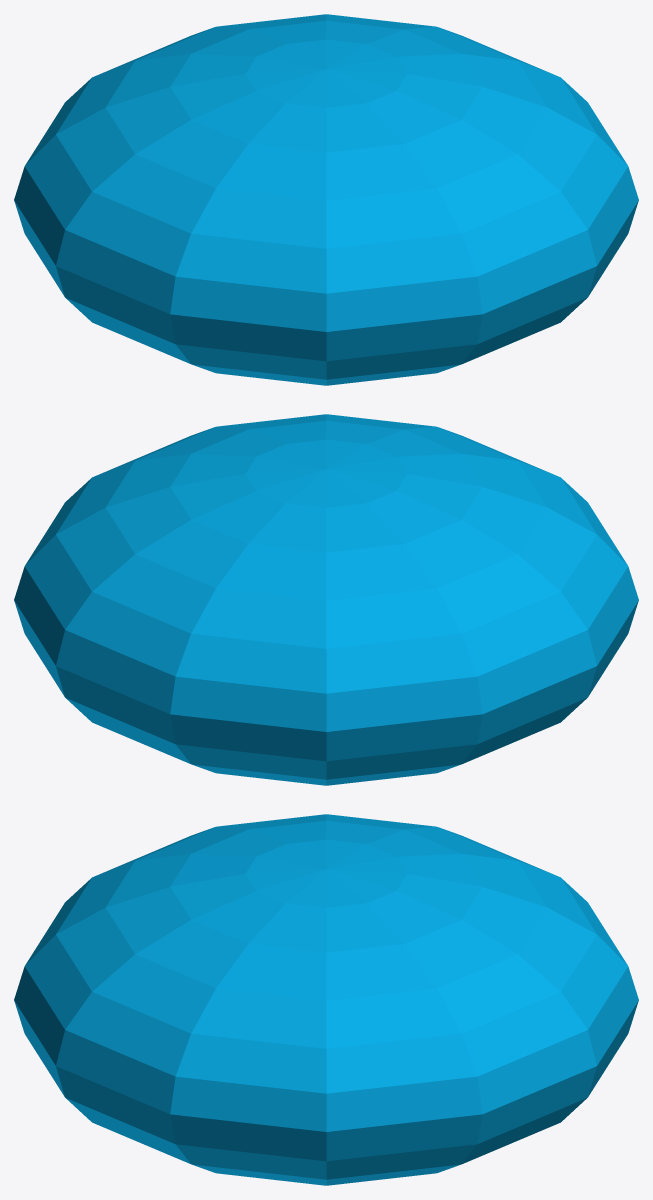
Rendered from Cylindre_Volume_Ball_02.fbx.
3 views of the same model, one above another, from view 1: azimuth 30°, elevation 25°; view 2: azimuth 150°, elevation 25°; view 3: azimuth 270°, elevation 25° (orthographic).
Parts seen in each view (by area): view 1: Cylindre_Volume_Ball_02; view 2: Cylindre_Volume_Ball_02; view 3: Cylindre_Volume_Ball_02.
Boxes of the visible parts, x1,y1,x2,y2 form: Cylindre_Volume_Ball_02: (14, 14, 638, 385); Cylindre_Volume_Ball_02: (14, 414, 638, 785); Cylindre_Volume_Ball_02: (14, 814, 638, 1185).
Size of the model in its own units: 8.98 by 4.15 by 8.98.
